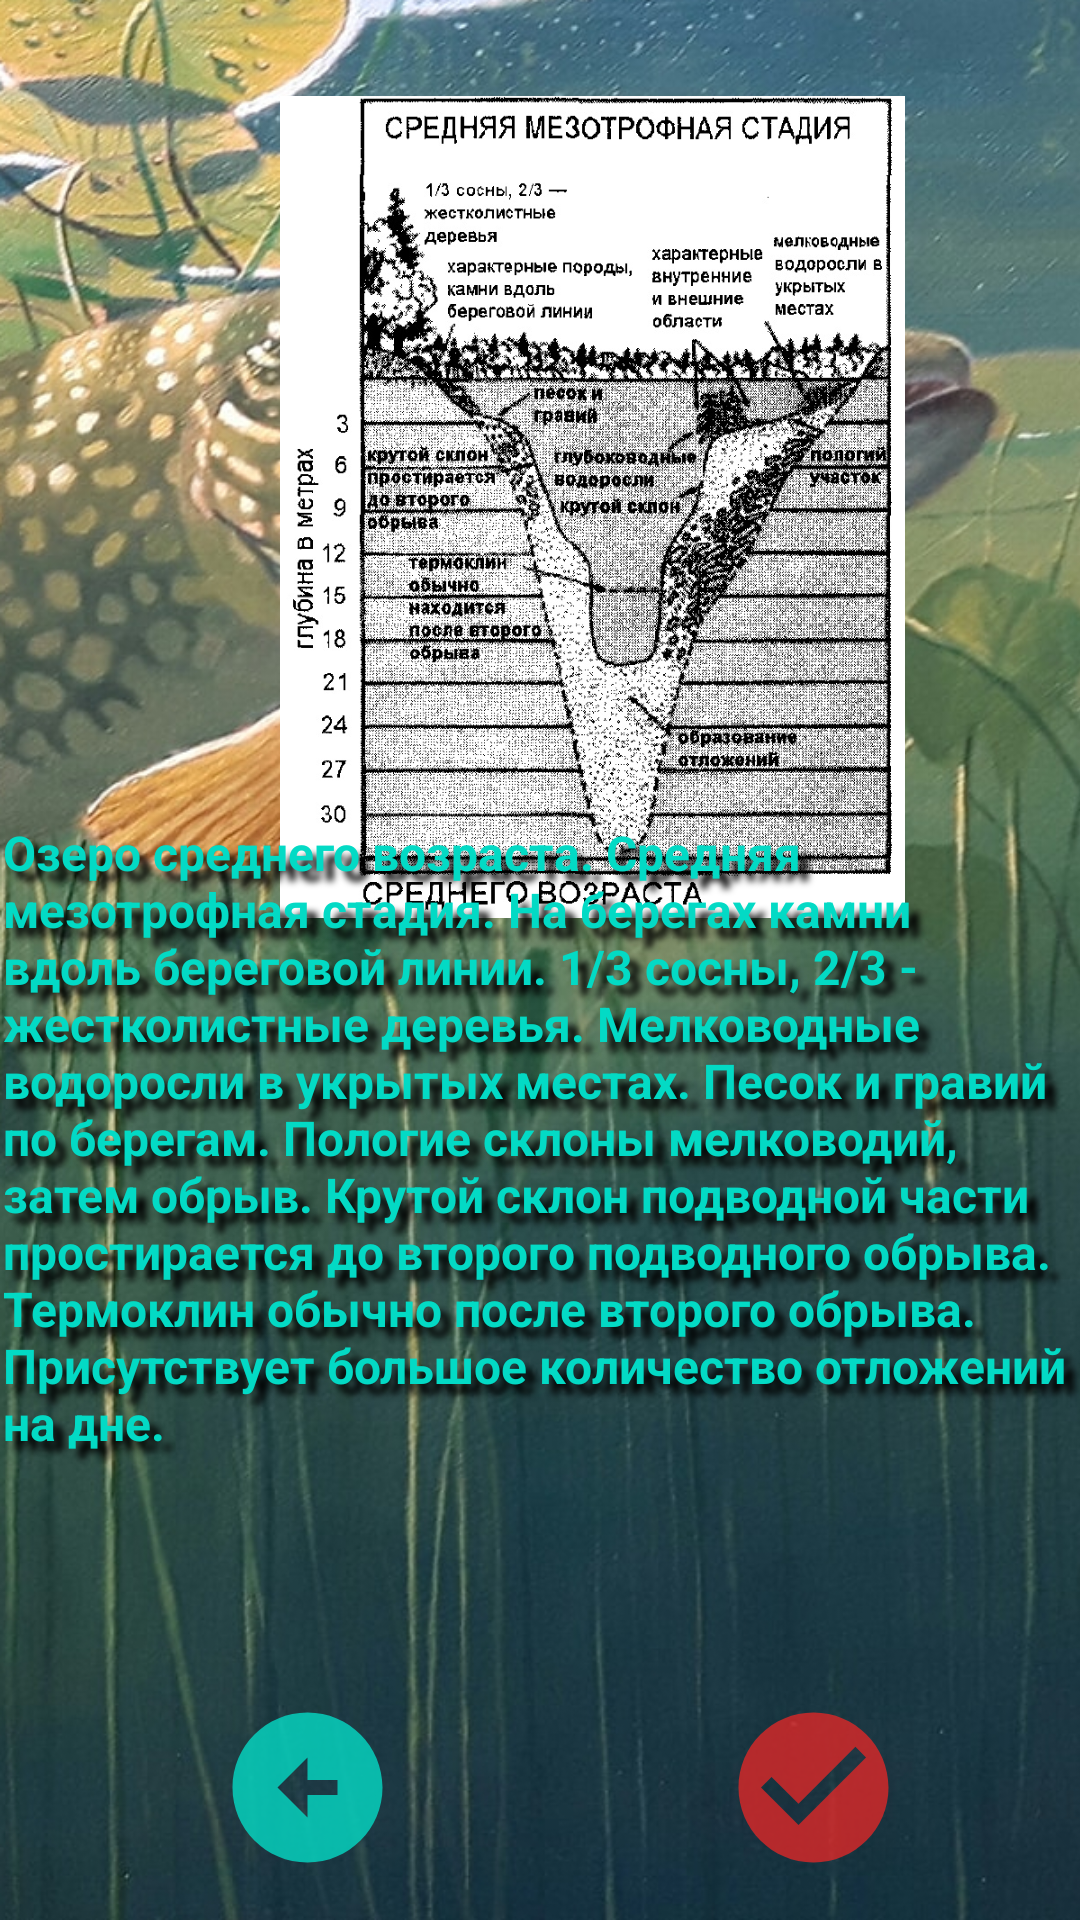

Named icons in this screenshot (1080w x 1920h) and their bounding boxes, (x1, y1, x2, y2):
back: (178, 1712, 432, 1885)
confirm: (698, 1674, 889, 1863)
